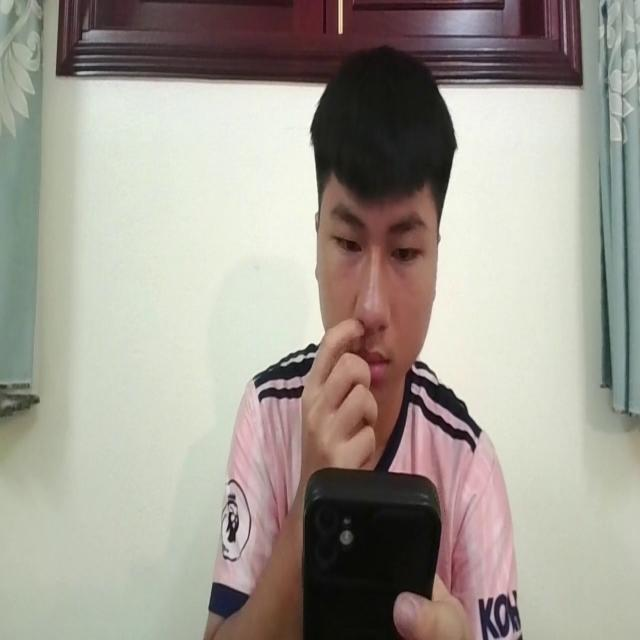phone: (297, 463, 438, 640)
student: (213, 41, 515, 640)
